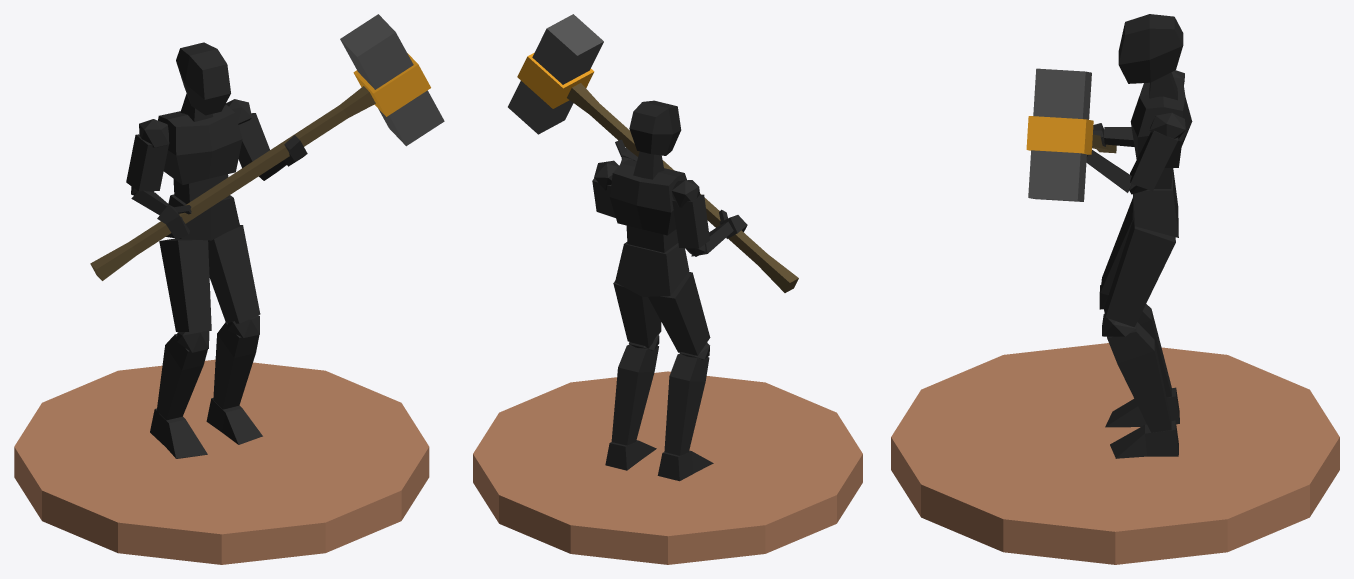
Rendered from Hammer fig.fbx.
3 views of the same model, side by side, from view 1: azimuth 30°, elevation 25°; view 2: azimuth 150°, elevation 25°; view 3: azimuth 270°, elevation 25° (orthographic). The views are drawn at different scales.
Visible parts, largest first — view 1: Action figure.2; view 2: Action figure.2; view 3: Action figure.2.
Part boxes in pixels (x1,y1,x2,y2): Action figure.2: (14, 14, 444, 564); Action figure.2: (473, 14, 862, 564); Action figure.2: (891, 14, 1339, 564).
Bounding box in the file's own units: 148 × 145 × 169.
